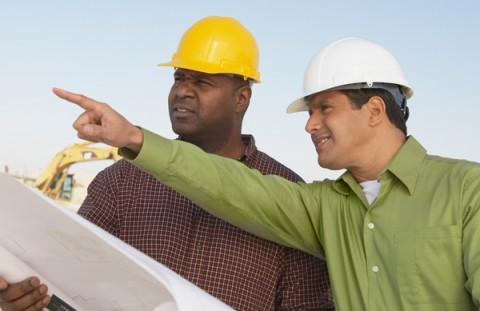helmet: (288, 36, 417, 116), (161, 16, 265, 84)
